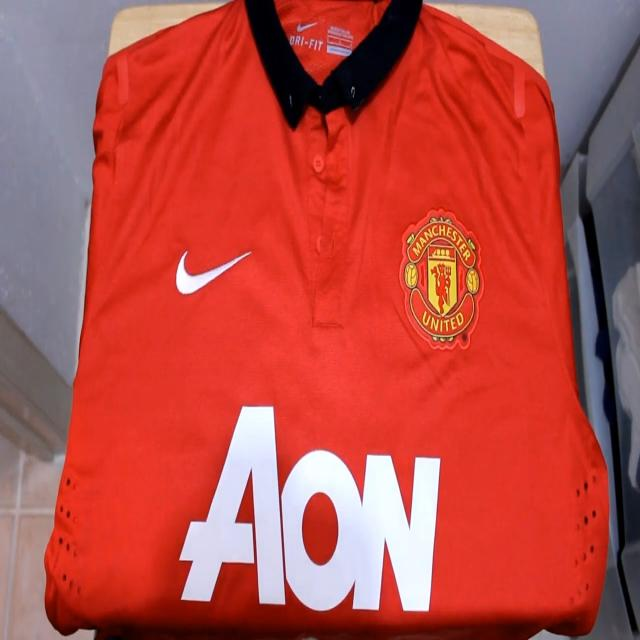Shirt: (43, 0, 611, 640)
